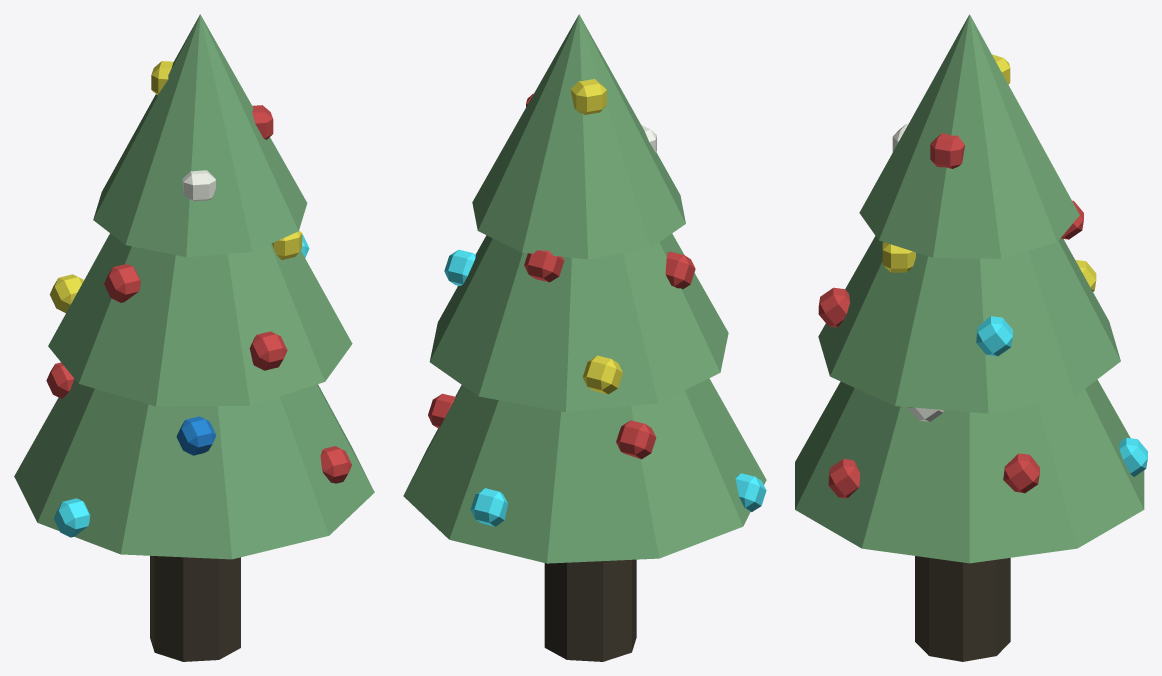
File: christmas_evergreen_model.fbx
The picture shows the model from 3 angles, left to right: view 1: azimuth 30°, elevation 25°; view 2: azimuth 150°, elevation 25°; view 3: azimuth 270°, elevation 25°; orthographic projection.
Parts seen in each view (by area): view 1: Evergreen, christmas_balls; view 2: Evergreen, christmas_balls; view 3: Evergreen, christmas_balls.
Boxes of the visible parts, x1,y1,x2,y2 form: Evergreen: [14, 14, 374, 661]; christmas_balls: [46, 61, 351, 537]; Evergreen: [403, 14, 766, 661]; christmas_balls: [428, 79, 766, 526]; Evergreen: [795, 14, 1144, 661]; christmas_balls: [818, 54, 1147, 498].
Size of the model in its own units: 4.19 by 7.96 by 4.03.
